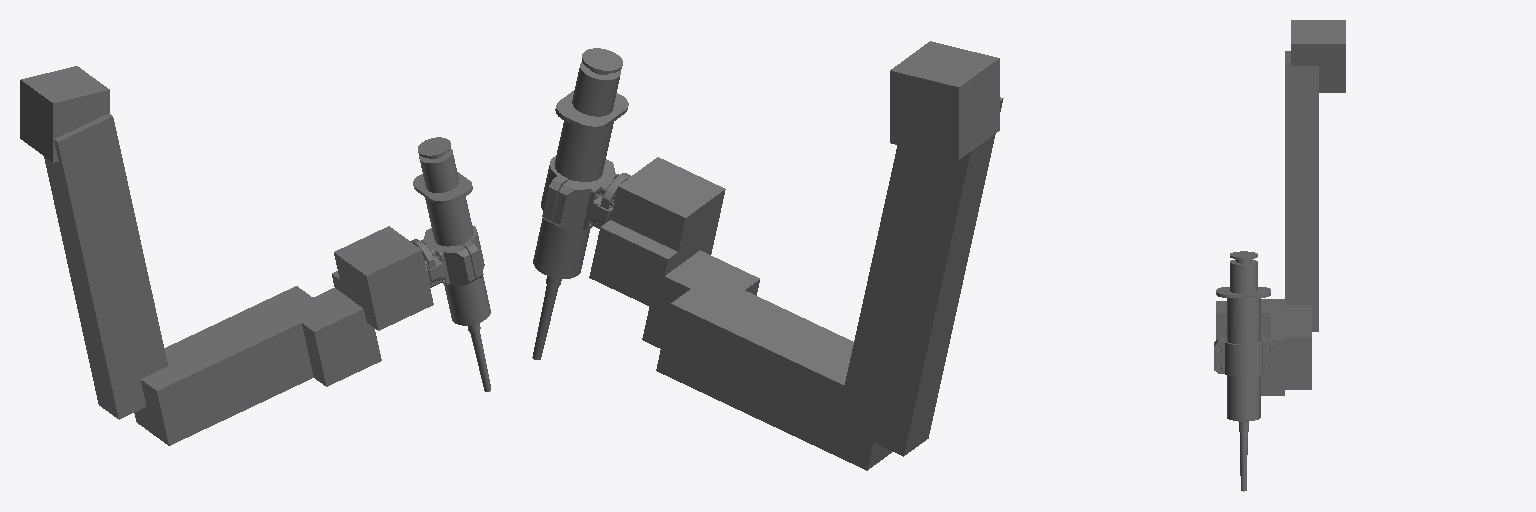
robot.urdf — Robot:
<?xml version="1.0" encoding="UTF-8"?>
<robot name="Robot">
    <link name="base">
        <inertial>
            <mass value="0"/>
            <inertia ixx="0" ixy="0" ixz="0" iyy="0" iyz="0" izz="0"/>
        </inertial>
    </link>
    <link name="base_link_prismatic">
        <inertial>
            <origin rpy="0.00000000 0.00000000 0.00000000" xyz="0.00000000 0.00000000 0.00000000"/>
            <mass value="1.00000000"/>
            <inertia ixx="1.00000000" ixy="0.00000000" ixz="0.00000000" iyy="1.00000000" iyz="0.00000000" izz="1.00000000"/>
        </inertial>
        <visual>
            <origin rpy="3.14159265 0.00000000 0.00000000" xyz="0.00000000 0.00000000 0.13860000"/>
            <geometry>
                <mesh filename="Basis_V5_scaled.stl" scale="0.00100000 0.00100000 0.0010000"/>
            </geometry>
            <material name="">
                <color rgba="0.50000000 0.50000000 0.50000000 1.00000000"/>
            </material>
        </visual>
        <collision>
            <origin rpy="0.00000000 0.00000000 0.00000000" xyz="0.00000000 0.00000000 0.50000000"/>
            <geometry>
                <mesh filename="Basis_V5_scaled.stl" scale="0.001000000 0.00100000 0.00100000"/>
            </geometry>
        </collision>
    </link>
    <link name="link1">
        <inertial>
            <origin rpy="0.00000000 0.00000000 0.00000000" xyz="0.00000000 0.00000000 0.00000000"/>
            <mass value="1.00000000"/>
            <inertia ixx="0.20000000" ixy="0.00000000" ixz="0.00000000" iyy="0.10000000" iyz="0.00000000" izz="0.20000000"/>
        </inertial>
        <visual>
            <origin rpy="0.00000000 0.00000000 0.00000000" xyz="0.00000000 0.00000000 0.00000000"/>
            <geometry>
                <box size="0.05000000 0.05000000 0.05000000"/>
            </geometry>
            <material name="">
                <color rgba="0.50000000 0.50000000 0.50000000 1.00000000"/>
            </material>
        </visual>
        <collision>
            <origin rpy="0.00000000 0.00000000 0.00000000" xyz="0.00000000 0.00000000 0.50000000"/>
            <geometry>
                <box size="0.05000000 0.05000000 0.05000000"/>
            </geometry>
        </collision>
    </link>
    <link name="link2">
        <inertial>
            <origin rpy="0.00000000 0.00000000 0.00000000" xyz="0.00000000 0.00000000 0.00000000"/>
            <mass value="1.00000000"/>
            <inertia ixx="0.20000000" ixy="0.00000000" ixz="0.00000000" iyy="0.10000000" iyz="0.00000000" izz="0.20000000"/>
        </inertial>
        <visual>
            <origin rpy="0.00000000 0.00000000 0.00000000" xyz="0.12615000  0.00000000 -0.01550000"/>
            <geometry>
                <box size="0.25230000  0.05000000 -0.03100000"/>
            </geometry>
            <material name="">
                <color rgba="0.50000000 0.50000000 0.50000000 1.00000000"/>
            </material>
        </visual>
        <collision>
            <origin rpy="0.00000000 0.00000000 0.00000000" xyz="0.00000000 0.00000000 0.50000000"/>
            <geometry>
                <box size="0.25230000  0.05000000 -0.03100000"/>
            </geometry>
        </collision>
    </link>
    <link name="link3">
        <inertial>
            <origin rpy="0.00000000 0.00000000 0.00000000" xyz="0.00000000 0.00000000 0.00000000"/>
            <mass value="1.00000000"/>
            <inertia ixx="0.20000000" ixy="0.00000000" ixz="0.00000000" iyy="0.10000000" iyz="0.00000000" izz="0.20000000"/>
        </inertial>
        <visual>
            <origin rpy="0.00000000 0.00000000 0.00000000" xyz="0.00000000 -0.07780000  0.00000000"/>
            <geometry>
                <box size="0.05000000 -0.15560000  0.05000000"/>
            </geometry>
            <material name="">
                <color rgba="0.50000000 0.50000000 0.50000000 1.00000000"/>
            </material>
        </visual>
        <collision>
            <origin rpy="0.00000000 0.00000000 0.00000000" xyz="0.00000000 0.00000000 0.50000000"/>
            <geometry>
                <box size="0.05000000 -0.15560000  0.05000000"/>
            </geometry>
        </collision>
    </link>
    <link name="link4">
        <inertial>
            <origin rpy="0.00000000 0.00000000 0.00000000" xyz="0.00000000 0.00000000 0.00000000"/>
            <mass value="1.00000000"/>
            <inertia ixx="0.20000000" ixy="0.00000000" ixz="0.00000000" iyy="0.10000000" iyz="0.00000000" izz="0.20000000"/>
        </inertial>
        <visual>
            <origin rpy="0.00000000 0.00000000 0.00000000" xyz="0.00000000 -0.02225000  0.00000000"/>
            <geometry>
                <box size="0.05000000 0.04450000 0.05000000"/>
            </geometry>
            <material name="">
                <color rgba="0.50000000 0.50000000 0.50000000 1.00000000"/>
            </material>
        </visual>
        <collision>
            <origin rpy="0.00000000 0.00000000 0.00000000" xyz="0.00000000 0.00000000 0.50000000"/>
            <geometry>
                <box size="0.05000000 0.04450000 0.05000000"/>
            </geometry>
        </collision>
    </link>
    <link name="link5">
        <inertial>
            <origin rpy="0.00000000 0.00000000 0.00000000" xyz="0.00000000 0.00000000 0.00000000"/>
            <mass value="1.00000000"/>
            <inertia ixx="0.20000000" ixy="0.00000000" ixz="0.00000000" iyy="0.10000000" iyz="0.00000000" izz="0.20000000"/>
        </inertial>
        <visual>
            <origin rpy="0.00000000 0.00000000 0.00000000" xyz="-0.01880000  0.00000000  0.01880000"/>
            <geometry>
                <box size="-0.03760000  0.05000000  0.03760000"/>
            </geometry>
            <material name="">
                <color rgba="0.50000000 0.50000000 0.50000000 1.00000000"/>
            </material>
        </visual>
        <collision>
            <origin rpy="0.00000000 0.00000000 0.00000000" xyz="0.00000000 0.00000000 0.50000000"/>
            <geometry>
                <box size="-0.03760000  0.05000000  0.03760000"/>
            </geometry>
        </collision>
    </link>
    <link name="link6">
        <inertial>
            <origin rpy="0.00000000 0.00000000 0.00000000" xyz="0.00000000 0.00000000 0.00000000"/>
            <mass value="1.00000000"/>
            <inertia ixx="0.20000000" ixy="0.00000000" ixz="0.00000000" iyy="0.10000000" iyz="0.00000000" izz="0.20000000"/>
        </inertial>
        <visual>
            <origin rpy="0.00000000 0.00000000 0.00000000" xyz="0.00000000 0.00000000 0.00000000"/>
            <geometry>
                <box size="0.05000000 0.05000000 0.05000000"/>
            </geometry>
            <material name="">
                <color rgba="0.50000000 0.50000000 0.50000000 1.00000000"/>
            </material>
        </visual>
        <collision>
            <origin rpy="0.00000000 0.00000000 0.00000000" xyz="0.00000000 0.00000000 0.50000000"/>
            <geometry>
                <box size="0.05000000 0.05000000 0.05000000"/>
            </geometry>
        </collision>
    </link>
    <link name="tool">
        <inertial>
            <origin rpy="0.00000000 0.00000000 0.00000000" xyz="0.00000000 0.00000000 0.00000000"/>
            <mass value="1.00000000"/>
            <inertia ixx="0.00100000" ixy="0.00000000" ixz="0.00000000" iyy="0.001000000" iyz="0.00000000" izz="0.001000000"/>
        </inertial>
        <visual>
            <origin rpy="-1.57079633  0.00000000  0.00000000" xyz="0.00000000  0.00000000 -0.11800000"/>
            <geometry>
                <mesh filename="SIEM_Spritze.stl" scale="0.00100000 0.001 0.001"/>
            </geometry>
            <material name="">
                <color rgba="0.50000000 0.50000000 0.50000000 1.00000000"/>
            </material>
        </visual>
        <collision>
            <origin rpy="-1.57079633  0.00000000  0.00000000" xyz="0.00000000  0.00000000 -0.11800000"/>
            <geometry>
                <mesh filename="SIEM_Spritze.stl" scale="0.001000000 0.00100000 0.00100000"/>
            </geometry>
        </collision>
    </link>
    <joint name="base_slide" type="prismatic">
        <parent link="base"/>
        <child link="base_link_prismatic"/>
        <origin rpy="3.14159265 0.00000000 0.00000000" xyz="0.00000000 0.18000000 0.84000000"/>
        <axis xyz="1.00000000 0.00000000 0.00000000"/>
        <limit lower="0.00000000" upper="2.27000000" effort="0" velocity="0"/>
    </joint>
    <joint name="joint1" type="revolute">
        <parent link="base_link_prismatic"/>
        <child link="link1"/>
        <origin rpy="3.14159231 0.00000000 0.00000000" xyz="0.00000000 0.00000000 0.17000000"/>
        <axis xyz="0.00000000 0.00000000 1.00000000"/>
        <limit lower="-0.8713" upper="2.45744" effort="0" velocity="0"/>
    </joint>
    <joint name="joint2" type="revolute">
        <parent link="link1"/>
        <child link="link2"/>
        <origin rpy="-1.57079600  0.00000000  0.00000000" xyz="0.00000000 0.00000000 0.00000000"/>
        <axis xyz="0.00000000 0.00000000 1.00000000"/>
        <limit lower="0.20249" upper="2.50805569" effort="0" velocity="0"/>
    </joint>
    <joint name="joint3" type="revolute">
        <parent link="link2"/>
        <child link="link3"/>
        <origin rpy="0.00000000 0.00000000 0.00000000" xyz="0.25230000  0.00000000 -0.03100000"/>
        <axis xyz="0.00000000 0.00000000 1.00000000"/>
        <limit lower="-1.57079632679" upper="3.38396645" effort="0" velocity="0"/>
    </joint>
    <joint name="joint4" type="revolute">
        <parent link="link3"/>
        <child link="link4"/>
        <origin rpy="1.57079600 0.00000000 0.00000000" xyz="0.00000000 -0.15560000  0.00000000"/>
        <axis xyz="0.00000000 0.00000000 1.00000000"/>
        <limit lower="-2.06320596" upper="1.23639119" effort="0" velocity="0"/>
    </joint>
    <joint name="joint5" type="revolute">
        <parent link="link4"/>
        <child link="link5"/>
        <origin rpy="1.57079600 0.00000000 0.00000000" xyz="0.00000000 0.00000000 0.04450000"/>
        <axis xyz="0.00000000 0.00000000 1.00000000"/>
        <limit lower="-3.66773963" upper="1.34376383" effort="0" velocity="0"/>
    </joint>
    <joint name="joint6" type="revolute">
        <parent link="link5"/>
        <child link="link6"/>
        <origin rpy="-1.57079600  0.00000000  0.00000000" xyz="-0.03760000  0.00000000  0.03760000"/>
        <axis xyz="0.00000000 0.00000000 1.00000000"/>
        <limit lower="-1.45881605" upper="2.77343297" effort="0" velocity="0"/>
    </joint>
    <joint name="tool_joint" type="fixed">
        <parent link="link6"/>
        <child link="tool"/>
        <origin rpy="0.00000000 1.57079633 0.00000000" xyz="0.14000000 0.00000000 0.06500000"/>
         <axis xyz="0.00000000 0.00000000 0.00000000"/>
    </joint>
</robot>

--- Facts derived from the render (not from the file) ---
3 views of the same robot in one strip: view 1: azimuth 30°, elevation 25°; view 2: azimuth 150°, elevation 25°; view 3: azimuth 270°, elevation 25° (orthographic).
Model Robot with 9 links and 8 joints (6 revolute, 1 prismatic, 1 fixed), rooted at base, posed joints at zero except 1 at the middle of their limits (joint2 = 1.36).
Visible links, largest first — view 1: link2, link3, tool, link6, link1, link4; view 2: link2, link3, tool, link1, link6, link5, link4; view 3: link2, tool, link1, link3, link6, link5.
Link boxes in pixels (x1=…): link2: x1=44, y1=113, x2=167, y2=419; link3: x1=134, y1=286, x2=326, y2=445; tool: x1=410, y1=137, x2=490, y2=391; link6: x1=334, y1=226, x2=433, y2=330; link1: x1=20, y1=66, x2=109, y2=162; link4: x1=286, y1=288, x2=381, y2=386; link2: x1=836, y1=97, x2=1003, y2=456; link3: x1=656, y1=274, x2=892, y2=470; tool: x1=532, y1=48, x2=630, y2=359; link1: x1=890, y1=41, x2=999, y2=159; link6: x1=610, y1=157, x2=725, y2=267; link5: x1=589, y1=220, x2=697, y2=306; link4: x1=642, y1=250, x2=759, y2=348; link2: x1=1285, y1=51, x2=1318, y2=331; tool: x1=1214, y1=251, x2=1273, y2=491; link1: x1=1291, y1=20, x2=1345, y2=92; link3: x1=1261, y1=299, x2=1311, y2=389; link6: x1=1216, y1=301, x2=1270, y2=339; link5: x1=1261, y1=328, x2=1284, y2=379.
Size in the robot's own frame: 0.3609 by 0.121 by 0.3146 metres.
Meshes: 2 distinct files referenced, 2 mesh visuals loaded (2 binary STL).
